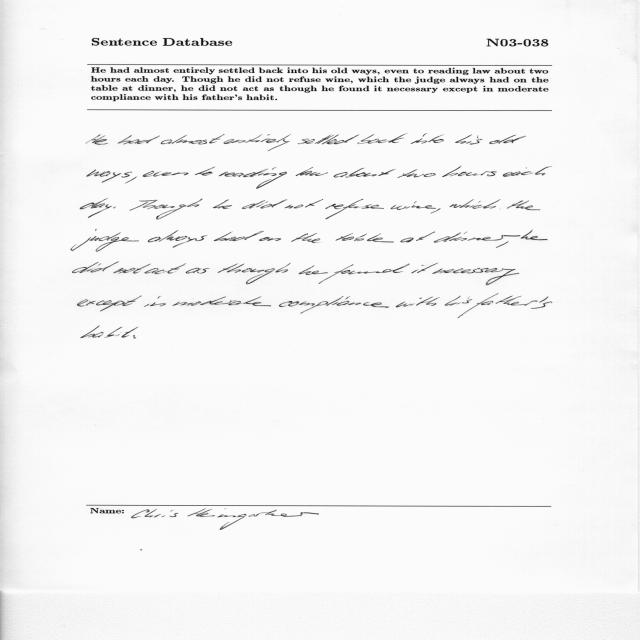word: (458, 294, 552, 319), (279, 296, 389, 313), (318, 264, 410, 284), (218, 263, 291, 285), (71, 229, 139, 252), (130, 199, 203, 220), (219, 167, 287, 189), (432, 268, 519, 285), (468, 230, 548, 248), (325, 199, 384, 219), (223, 134, 290, 151), (148, 230, 208, 248), (77, 296, 142, 312), (173, 297, 271, 307), (81, 326, 138, 338), (161, 134, 225, 144), (80, 198, 112, 218), (298, 135, 359, 145), (334, 168, 395, 178), (442, 166, 497, 177), (87, 170, 132, 183), (357, 133, 407, 144), (503, 166, 552, 177), (336, 233, 394, 242), (450, 199, 501, 209), (213, 231, 264, 241), (73, 262, 119, 273), (242, 199, 287, 209), (396, 297, 440, 307), (499, 201, 540, 211), (145, 264, 186, 274), (391, 201, 436, 210), (400, 232, 435, 243), (113, 264, 151, 274), (118, 135, 160, 144), (411, 133, 444, 144), (434, 232, 467, 243), (285, 199, 324, 208), (398, 169, 436, 178), (489, 135, 526, 144), (455, 134, 483, 145), (295, 167, 328, 176), (292, 233, 321, 243), (299, 265, 328, 275), (143, 171, 189, 177), (412, 263, 439, 273), (445, 296, 472, 306), (144, 296, 166, 307), (213, 199, 232, 209), (91, 134, 108, 145), (195, 167, 214, 175), (186, 268, 210, 274), (259, 237, 281, 241), (125, 177, 137, 183), (430, 208, 441, 214), (133, 335, 136, 339), (464, 232, 467, 234), (113, 207, 116, 208)
